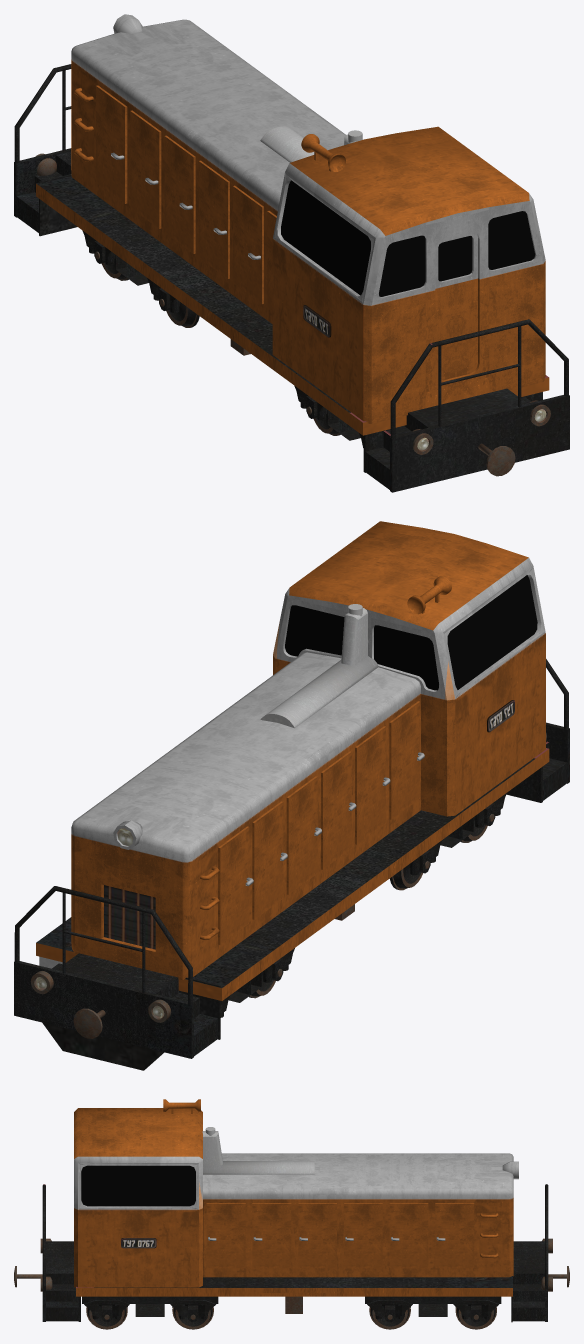
File: locomotive_tu6a.obj
3 views of the same model, one above another, from view 1: azimuth 30°, elevation 25°; view 2: azimuth 150°, elevation 25°; view 3: azimuth 270°, elevation 25° (orthographic). The views are drawn at different scales.
Visible parts, largest first — view 1: body, details, bogey_f, bogey_b; view 2: body, details, bogey_b, bogey_f; view 3: body, details, bogey_f, bogey_b.
Boxes of the visible parts, <box> form: body: <box>35,14,550,454</box>; details: <box>14,64,569,492</box>; bogey_f: <box>82,230,199,327</box>; bogey_b: <box>294,386,363,447</box>; body: <box>30,521,546,1022</box>; details: <box>14,576,569,1070</box>; bogey_b: <box>389,793,506,890</box>; bogey_f: <box>220,948,294,1017</box>; body: <box>40,1108,552,1291</box>; details: <box>14,1099,569,1322</box>; bogey_f: <box>365,1296,501,1329</box>; bogey_b: <box>82,1296,218,1329</box>.
Bounding box in the file's own units: 2.4 × 3.68 × 9.29.
3 materials, 2 textured.
